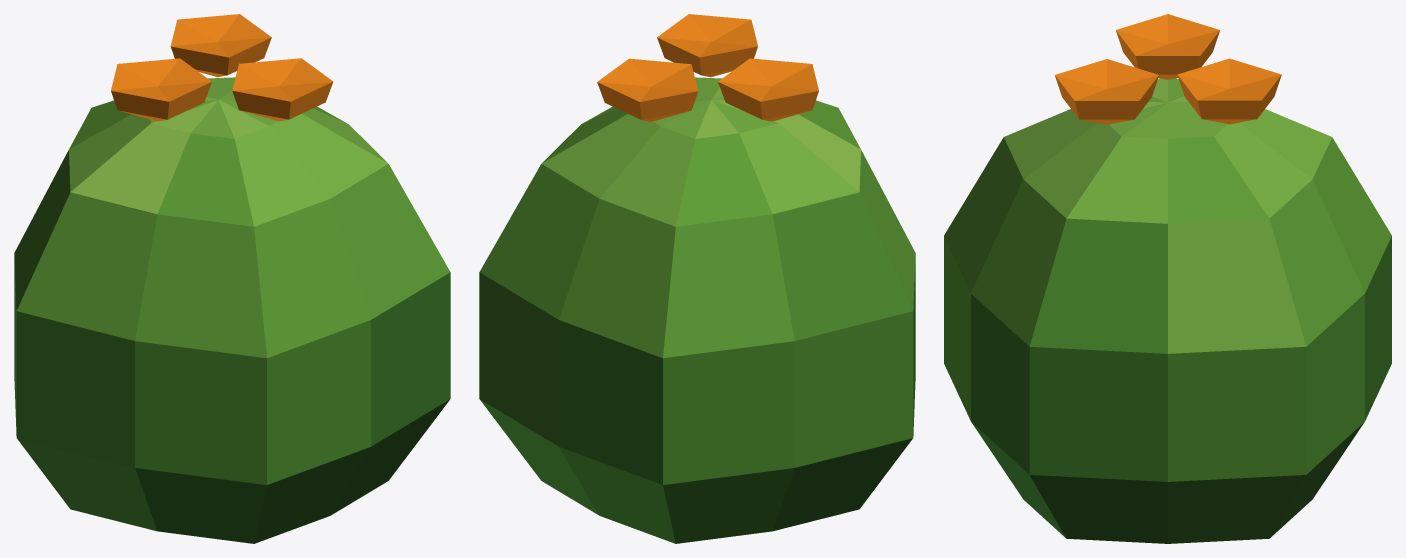
File: SM_CACTUS_SMALL_01.fbx
3 renders of one model, left to right at view 1: azimuth 30°, elevation 25°; view 2: azimuth 150°, elevation 25°; view 3: azimuth 270°, elevation 25°, orthographic.
Parts seen in each view (by area): view 1: CACTUS_SMALL_01; view 2: CACTUS_SMALL_01; view 3: CACTUS_SMALL_01.
Boxes of the visible parts, bbox=[...] form: CACTUS_SMALL_01: bbox=[14, 14, 450, 543]; CACTUS_SMALL_01: bbox=[479, 14, 915, 543]; CACTUS_SMALL_01: bbox=[944, 14, 1391, 543].
Size of the model in its own units: 0.564 by 0.5706 by 0.58.
